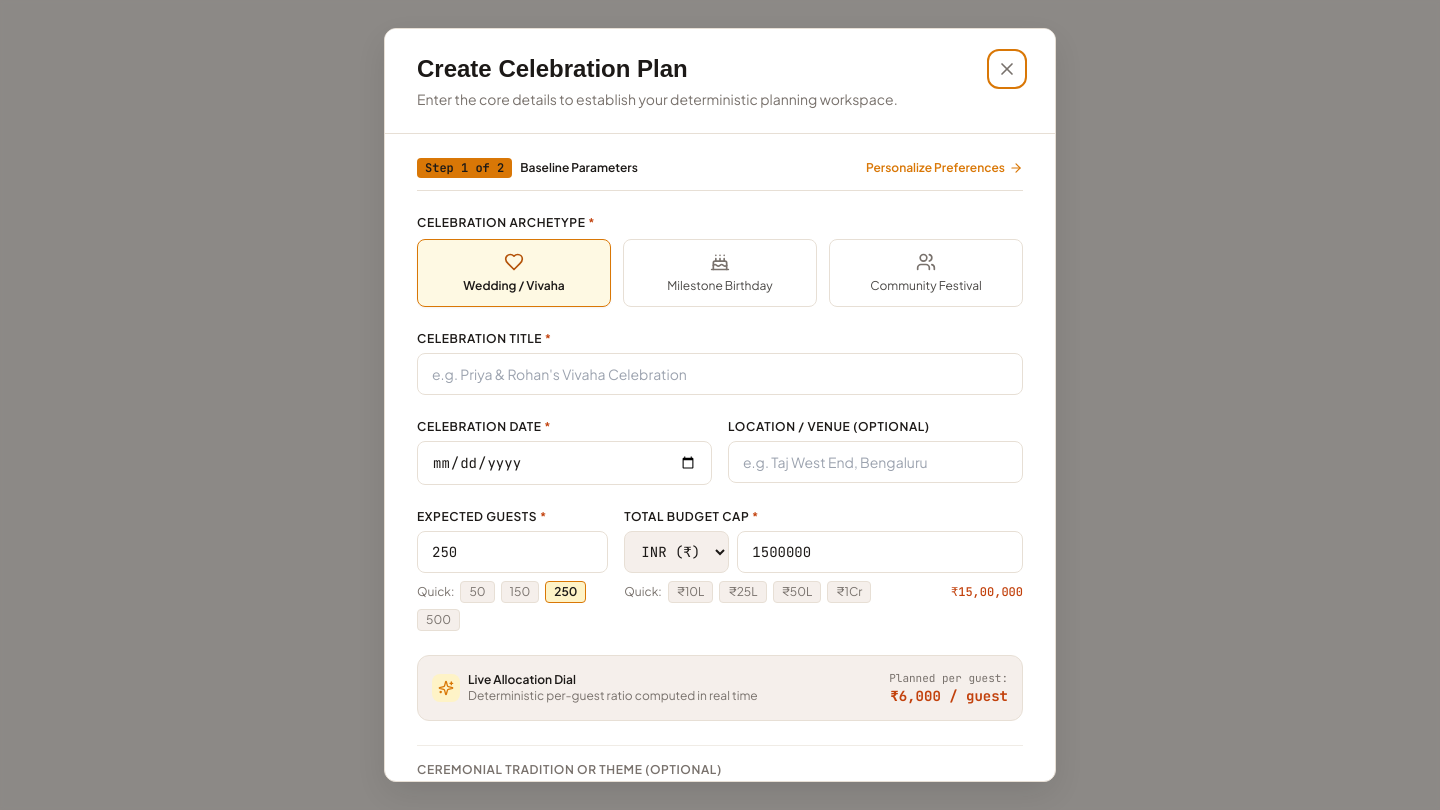
EventCreateDialog Component › rejects invalid numbers and short titles with plain-language feedback
Step 1. Type "Hi" into the field labelled "Celebration Title *" → (720, 374), box [417,353,1023,395]
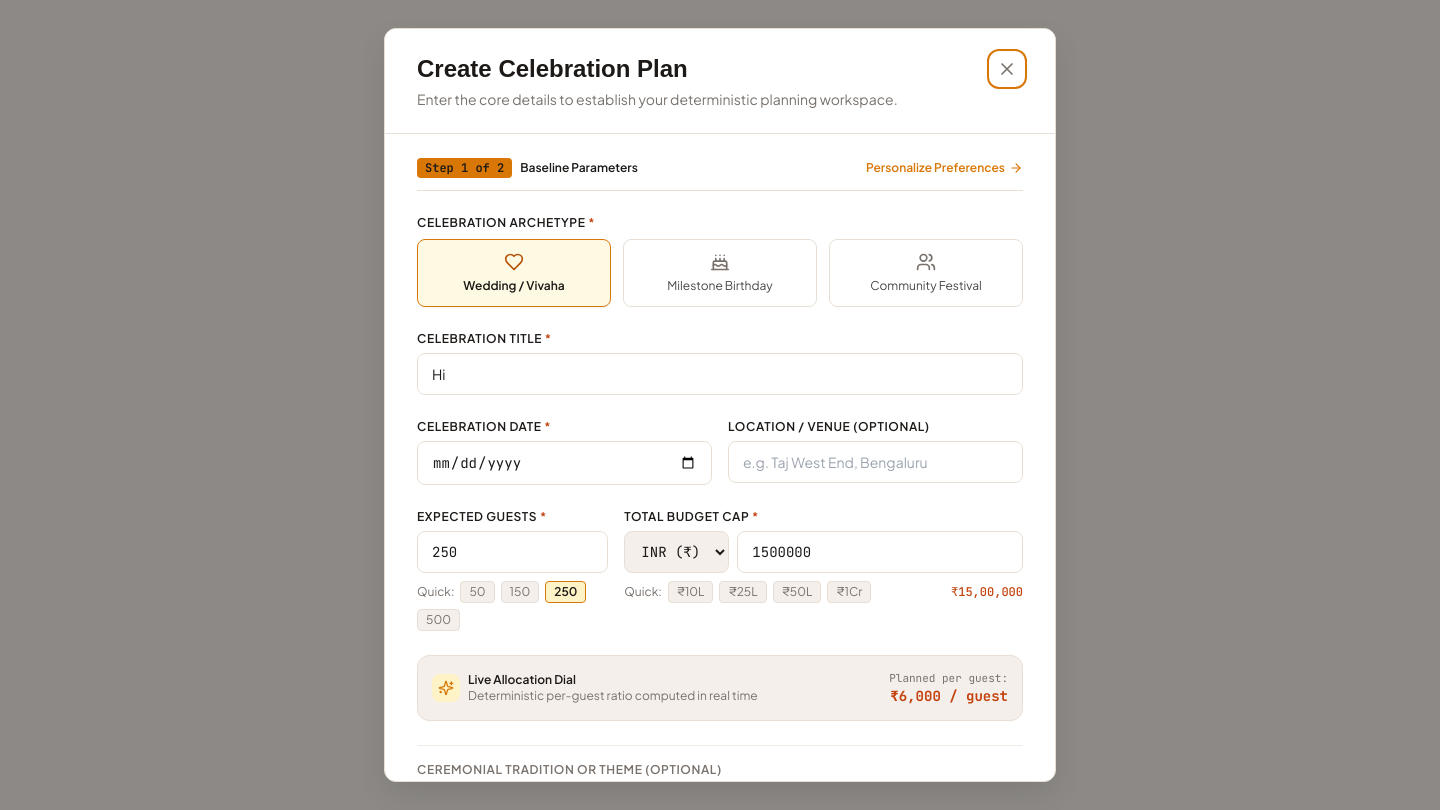
Step 2. Replace the text in the number field labelled "Expected Guests *" with "-5" → (513, 552), box [417,531,608,573]
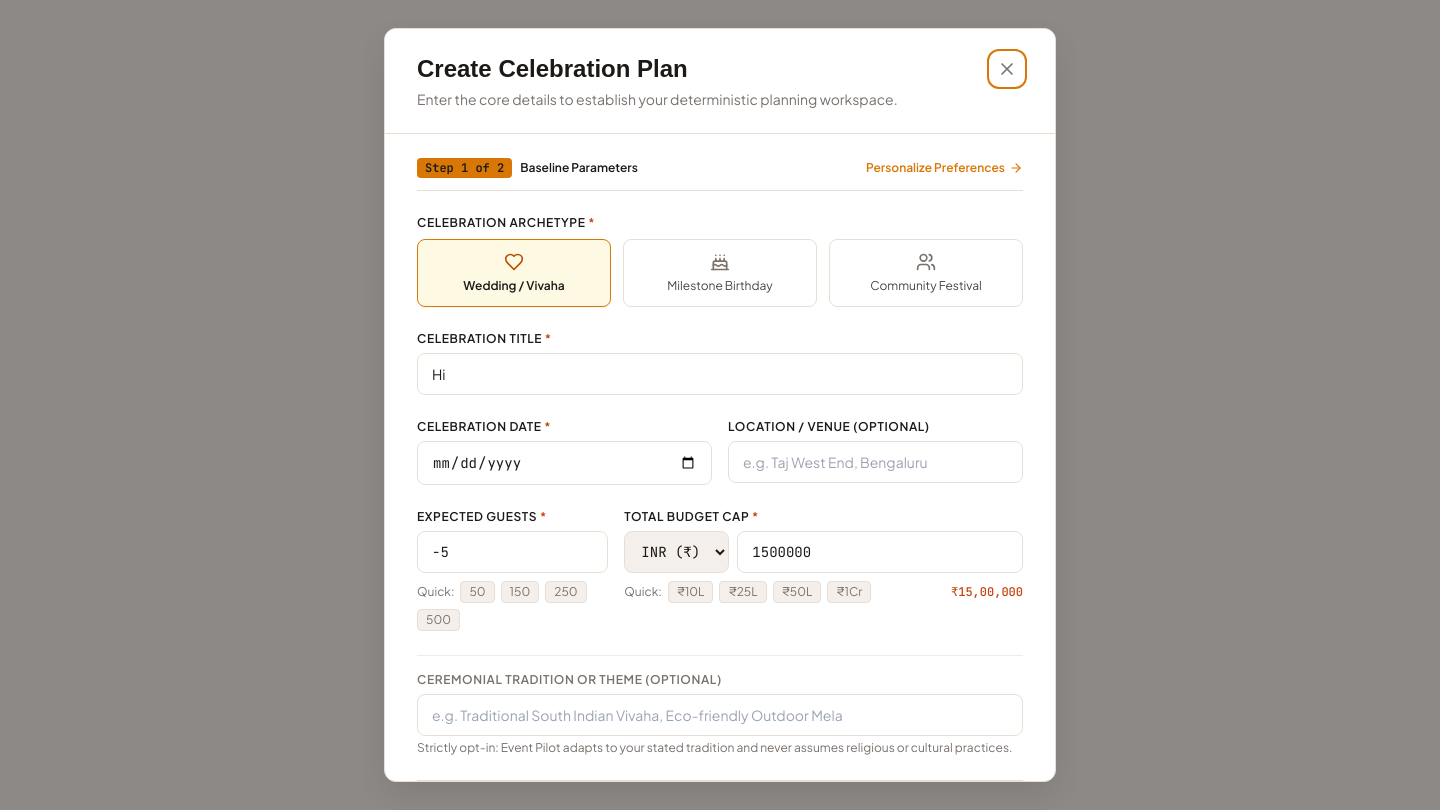
Step 3. Replace the text in the number field labelled "Total Budget Cap *" with "0" → (880, 552), box [737,531,1023,573]
(page scrolled)
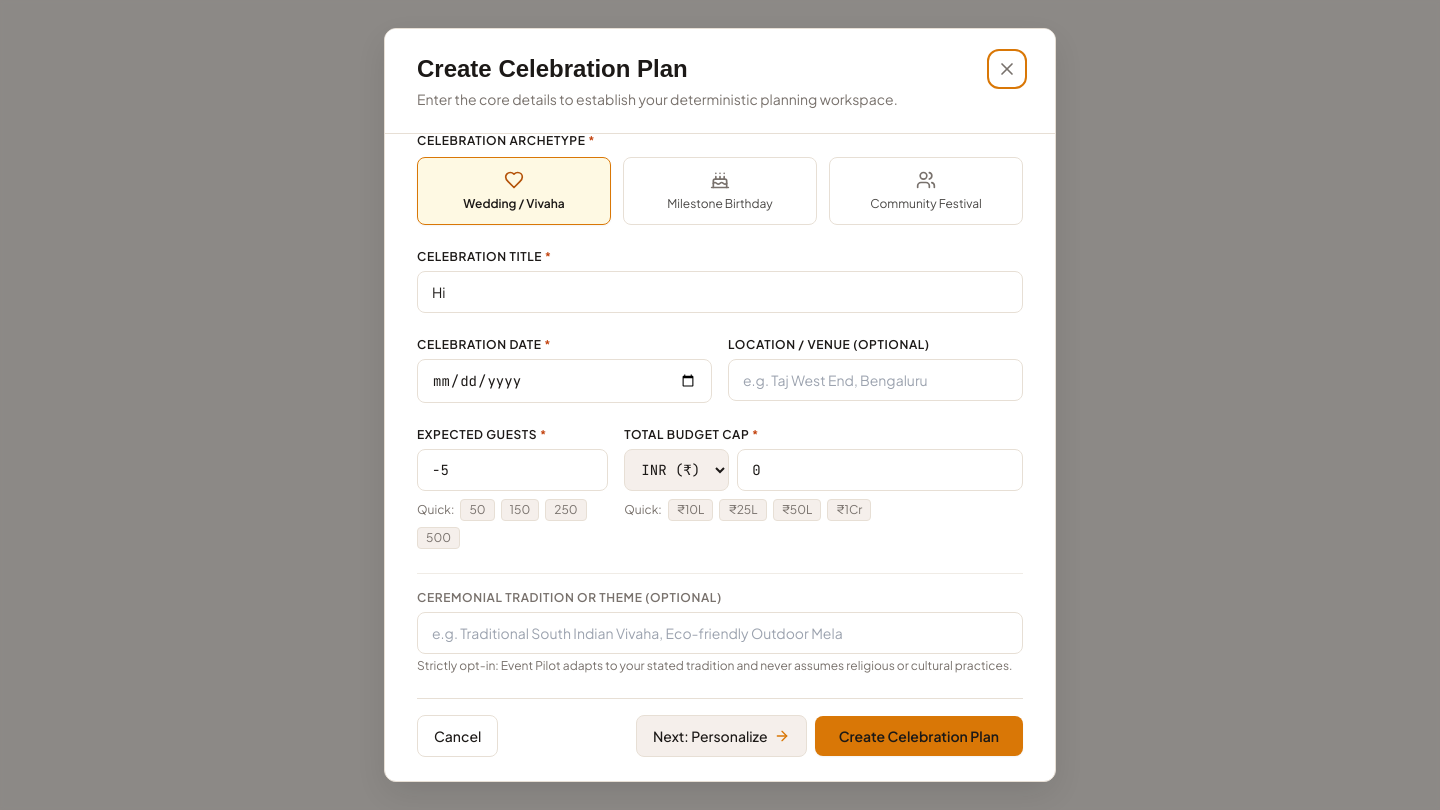
Step 4. Click the button "Create Celebration Plan" → (919, 736), box [815,716,1023,756]
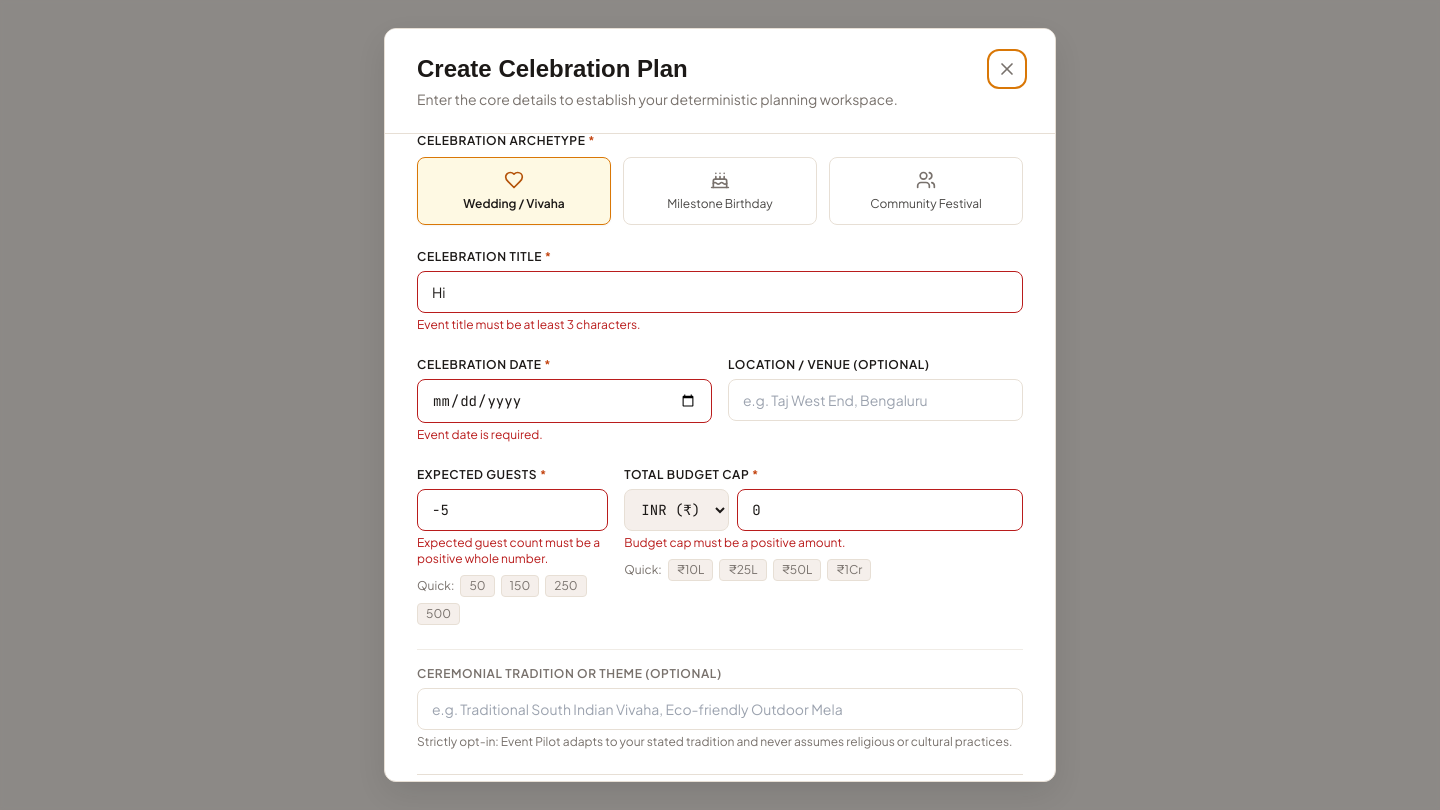
Result: the text "Event title must be at least 3 characters." is shown at [417,317,640,332]
Result: the text "Expected guest count must be a positive whole number." is shown at [417,535,608,567]
Result: the text "Budget cap must be a positive amount." is shown at [624,535,846,550]
